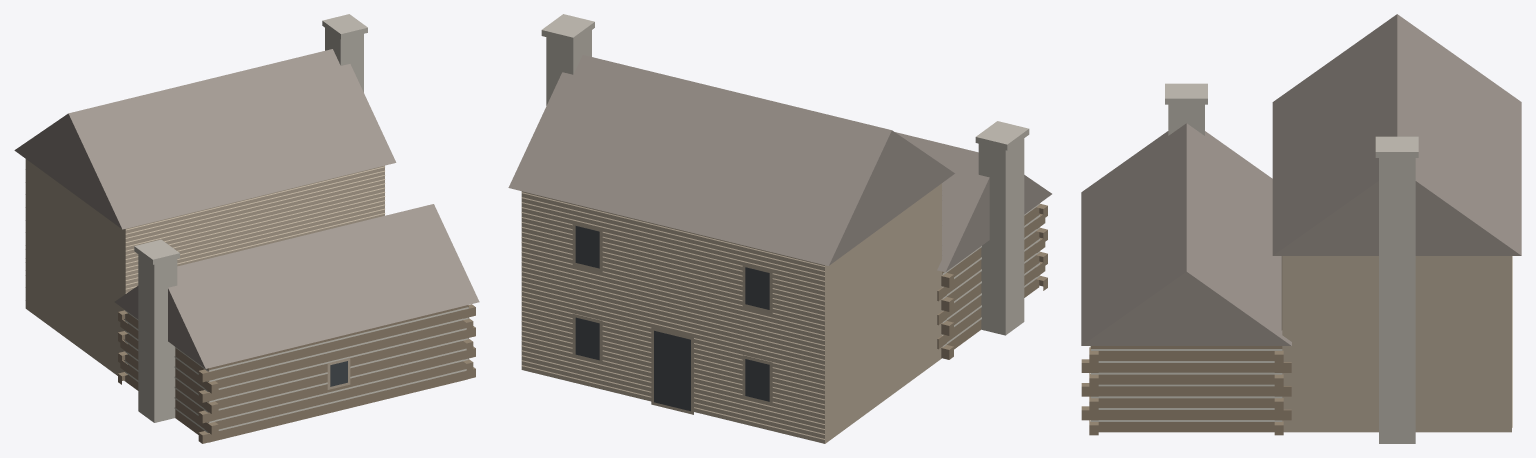
The model's file is miller_house__log_frame_1827.glb.
3 renders of one model, left to right at view 1: azimuth 30°, elevation 25°; view 2: azimuth 150°, elevation 25°; view 3: azimuth 270°, elevation 25°, orthographic. The views are drawn at different scales.
Visible parts, largest first — view 1: miller_house__log_frame_1827; view 2: miller_house__log_frame_1827; view 3: miller_house__log_frame_1827.
Part boxes in pixels (bbox=[...]): miller_house__log_frame_1827: bbox=[14, 14, 479, 443]; miller_house__log_frame_1827: bbox=[508, 14, 1051, 443]; miller_house__log_frame_1827: bbox=[1081, 14, 1521, 443].
Bounding box in the file's own units: 10.64 × 8.52 × 11.5.
